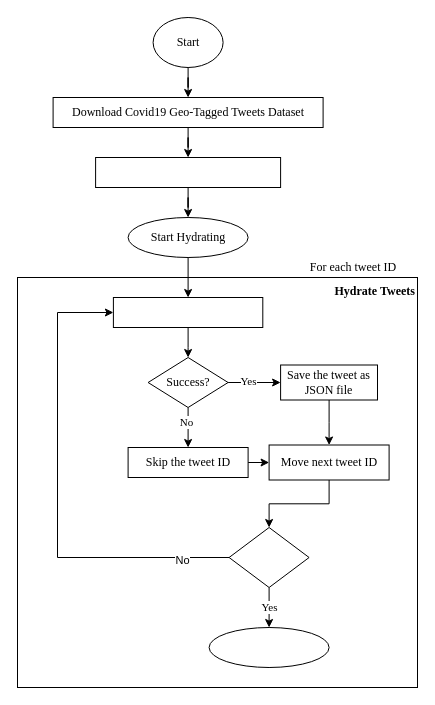
The diagram is 435 pixels wide and 705 high, and some of its shapes have lost their labels. The shapes that lost their labels are listed below. From the top down, each one's box as (x1, y1, x2, y2) in pixels, then its label:
(95, 156, 281, 188): List all tweet IDs
(112, 296, 263, 328): Fetch the tweet object
(228, 526, 309, 588): Empty?
(208, 626, 329, 668): End Hydrating
